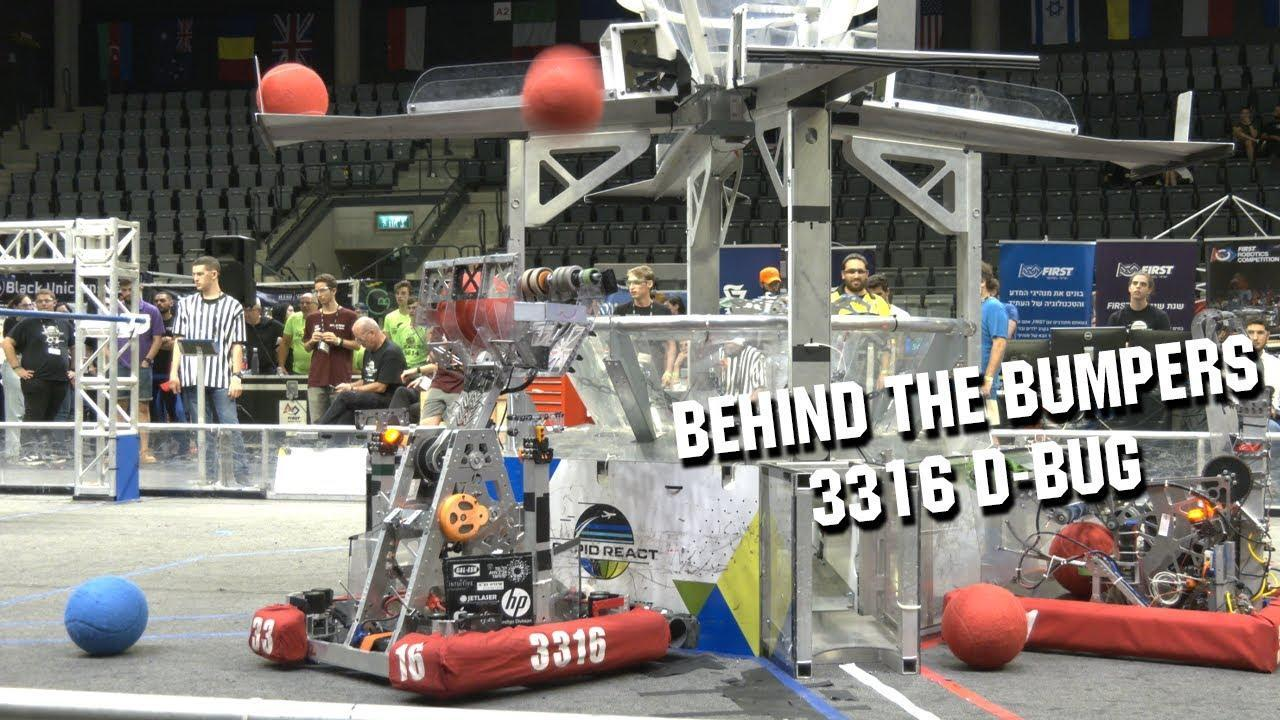robot: (237, 242, 679, 699), (999, 449, 1280, 679)
